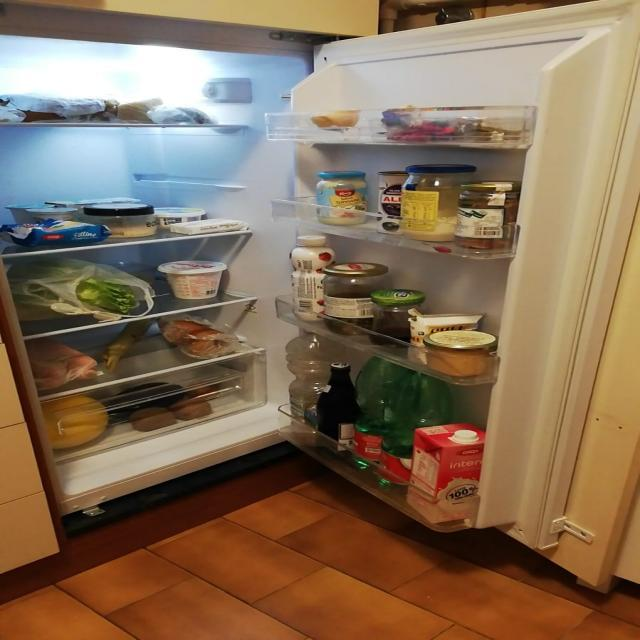apple: (164, 320, 235, 356)
butter: (168, 216, 249, 237)
cheese: (7, 220, 112, 247), (88, 220, 169, 237)
lemon: (310, 111, 362, 136)
milk: (411, 421, 493, 526)
yoghurt: (5, 202, 60, 228), (52, 196, 141, 212), (28, 205, 77, 222)
